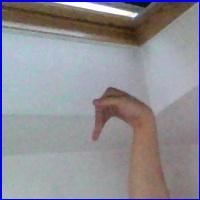del: (87, 81, 150, 147)
